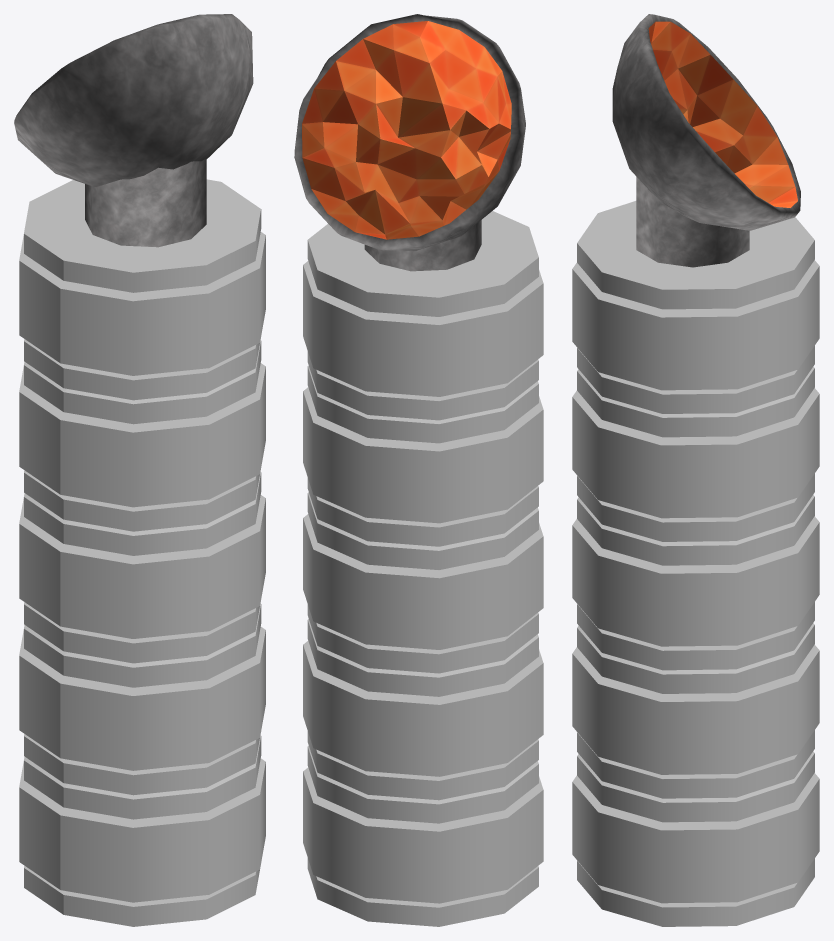
Rendered from Mirror3.FBX.
3 renders of one model, left to right at view 1: azimuth 30°, elevation 25°; view 2: azimuth 150°, elevation 25°; view 3: azimuth 270°, elevation 25°, orthographic. The views are drawn at different scales.
Parts seen in each view (by area): view 1: Plane014; view 2: Plane014; view 3: Plane014.
Boxes of the visible parts, bbox=[...] form: Plane014: bbox=[14, 14, 265, 926]; Plane014: bbox=[294, 14, 543, 926]; Plane014: bbox=[572, 14, 819, 926].
Size of the model in its own units: 876 by 3299 by 868.
